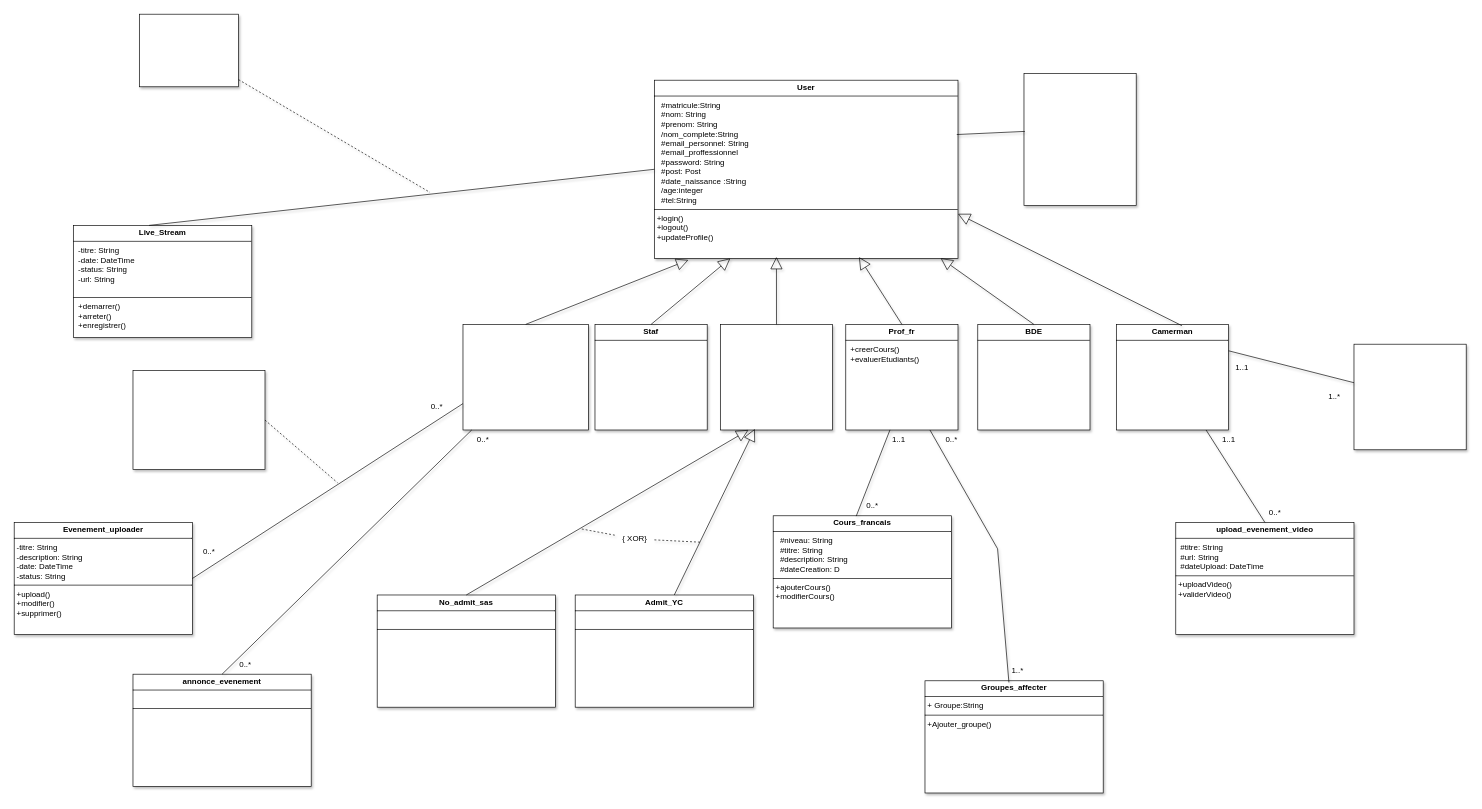
Some shapes in this 1482 by 809 pixel diagram are drawn without their labels. The shapes that lost their labels are listed below. From the top down, each one's centre as x and y in pixels, then its label:
pixel 189 51: admit_Stream -configuration: String +gererStream() +modererContenu()
pixel 1080 140: <<enumeration>> Post Admin Prof_fr camerman BDE Staf No_Admit_SAS Admit_YC
pixel 526 378: Administration +validerEvenement() +gererUtilisateurs()
pixel 777 378: Etudiant +suivreCours() +consulterNotes()
pixel 1410 397: Equipement_camera -equipement: String +suivreCours() +consulterNotes()
pixel 199 420: Tracibilte_evenement_poster
